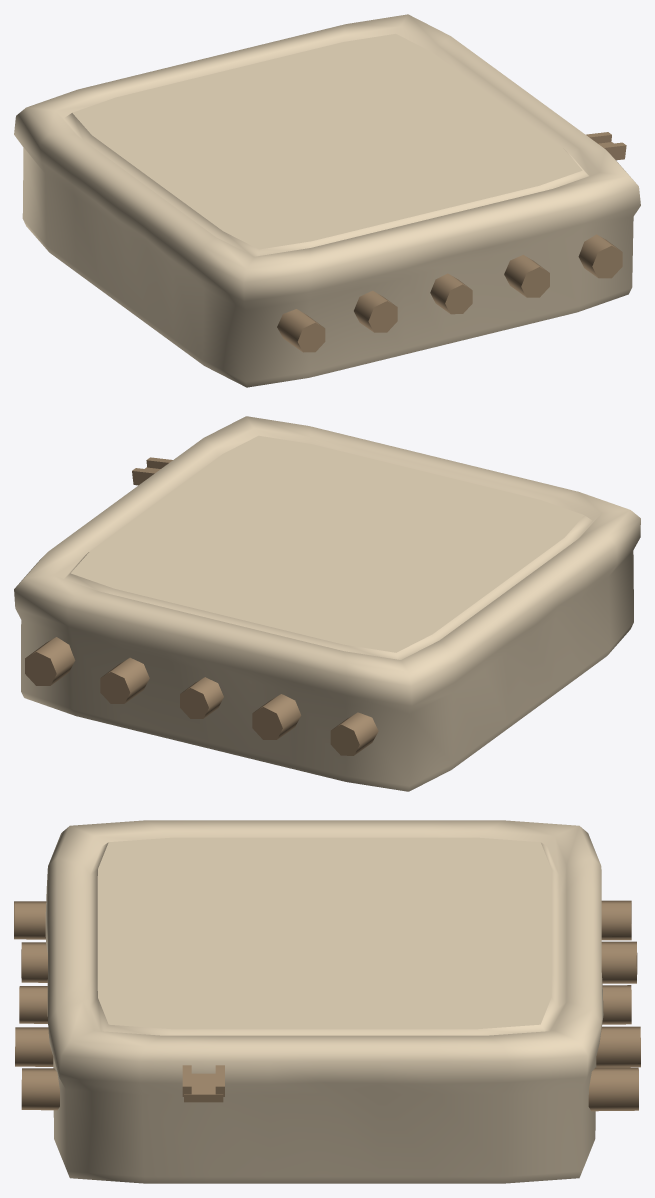
File: building.flatroof.glb
The picture shows the model from 3 angles, top to bottom: view 1: azimuth 30°, elevation 25°; view 2: azimuth 150°, elevation 25°; view 3: azimuth 270°, elevation 25°; orthographic projection. The views are drawn at different scales.
Parts seen in each view (by area): view 1: Paint, Wood; view 2: Paint, Wood; view 3: Paint, Wood.
Part boxes in pixels (x1=…): Paint: x1=14, y1=14, x2=640, y2=387; Wood: x1=277, y1=132, x2=626, y2=352; Paint: x1=14, y1=416, x2=640, y2=791; Wood: x1=25, y1=457, x2=378, y2=755; Paint: x1=45, y1=820, x2=603, y2=1183; Wood: x1=14, y1=900, x2=640, y2=1111.
Size of the model in its own units: 1.97 by 0.5 by 2.07.
